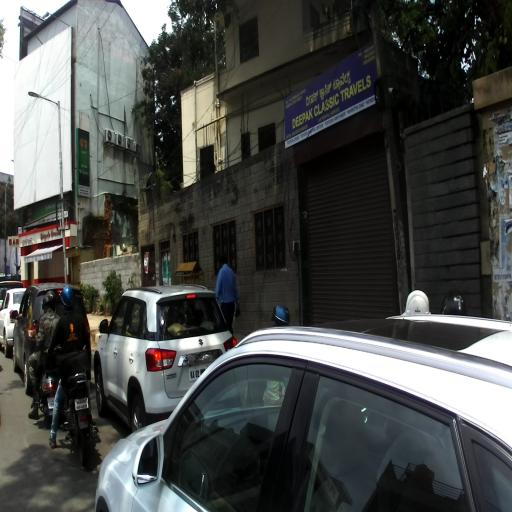street_light_0: (27, 90, 61, 108)
